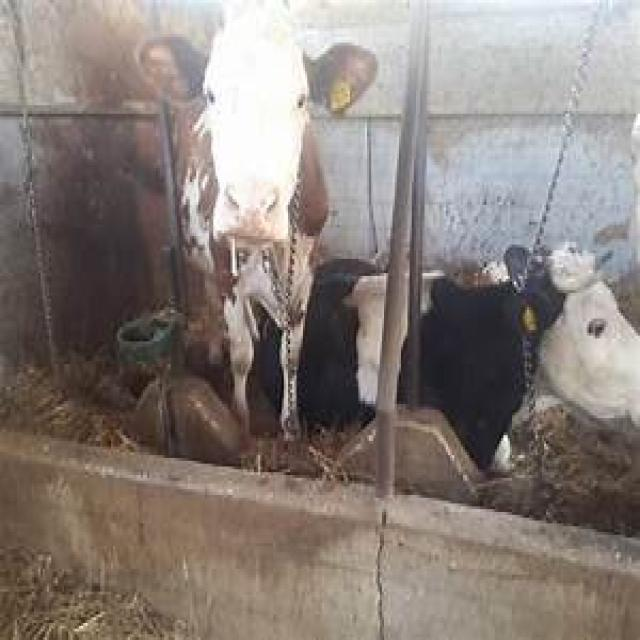cow: (192, 0, 333, 438), (418, 247, 640, 472), (297, 259, 388, 427)
